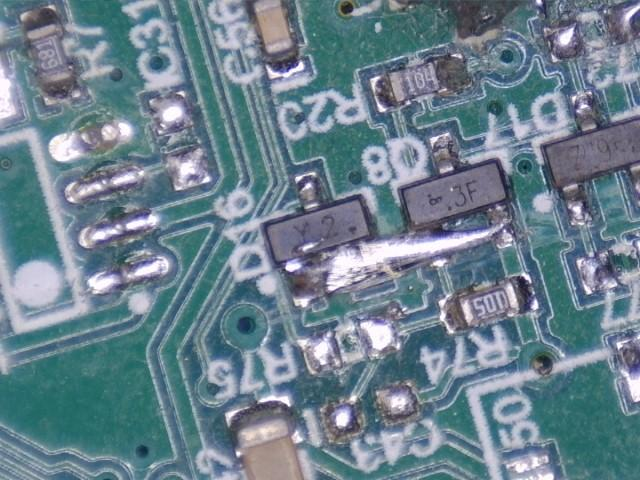Short_circuit: (283, 218, 513, 300)
